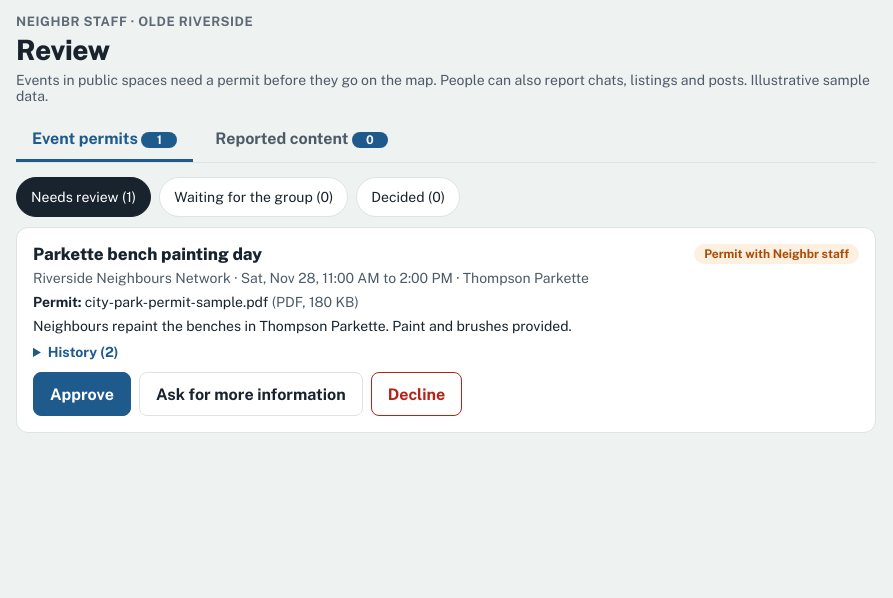
it: event permits › Cancel closes the form without sending
The image size is (893, 598).
Expected: the heading "Review" is shown, [16, 33, 110, 66]
Click the button with aria-label "Decline the permit" at (416, 394), box [371, 372, 462, 416]
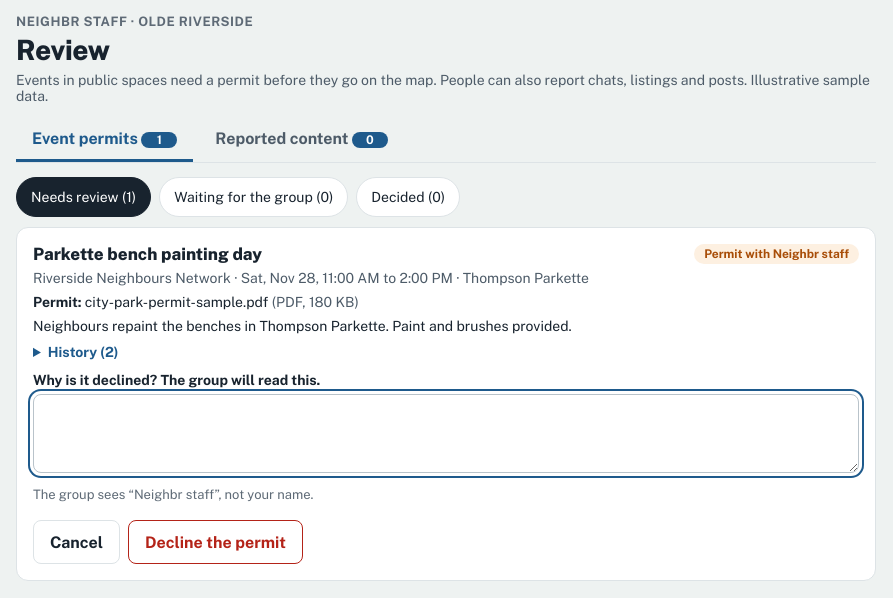
Click the button "Cancel" at (76, 542), box [33, 520, 120, 564]
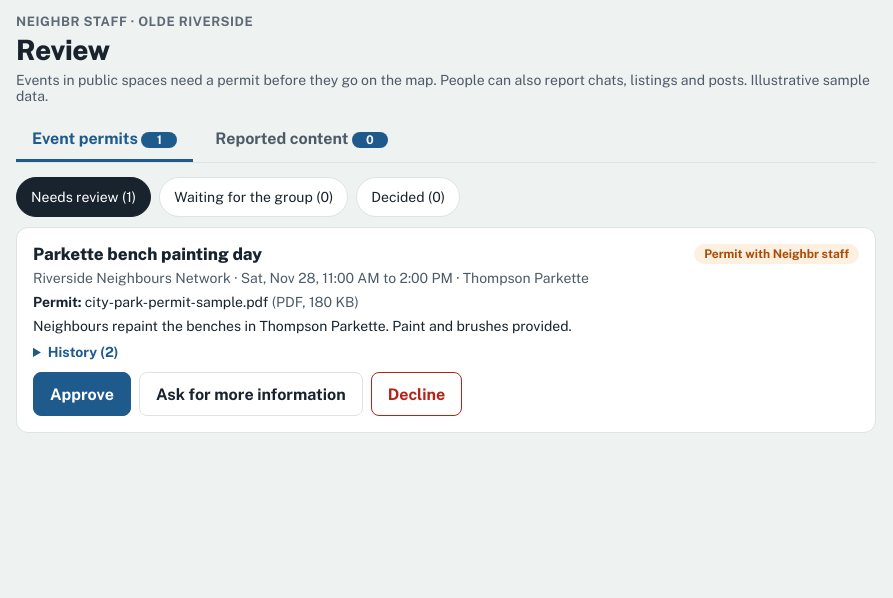
Expected: the button with aria-label "Approve the permit" is shown, [33, 372, 131, 416]
